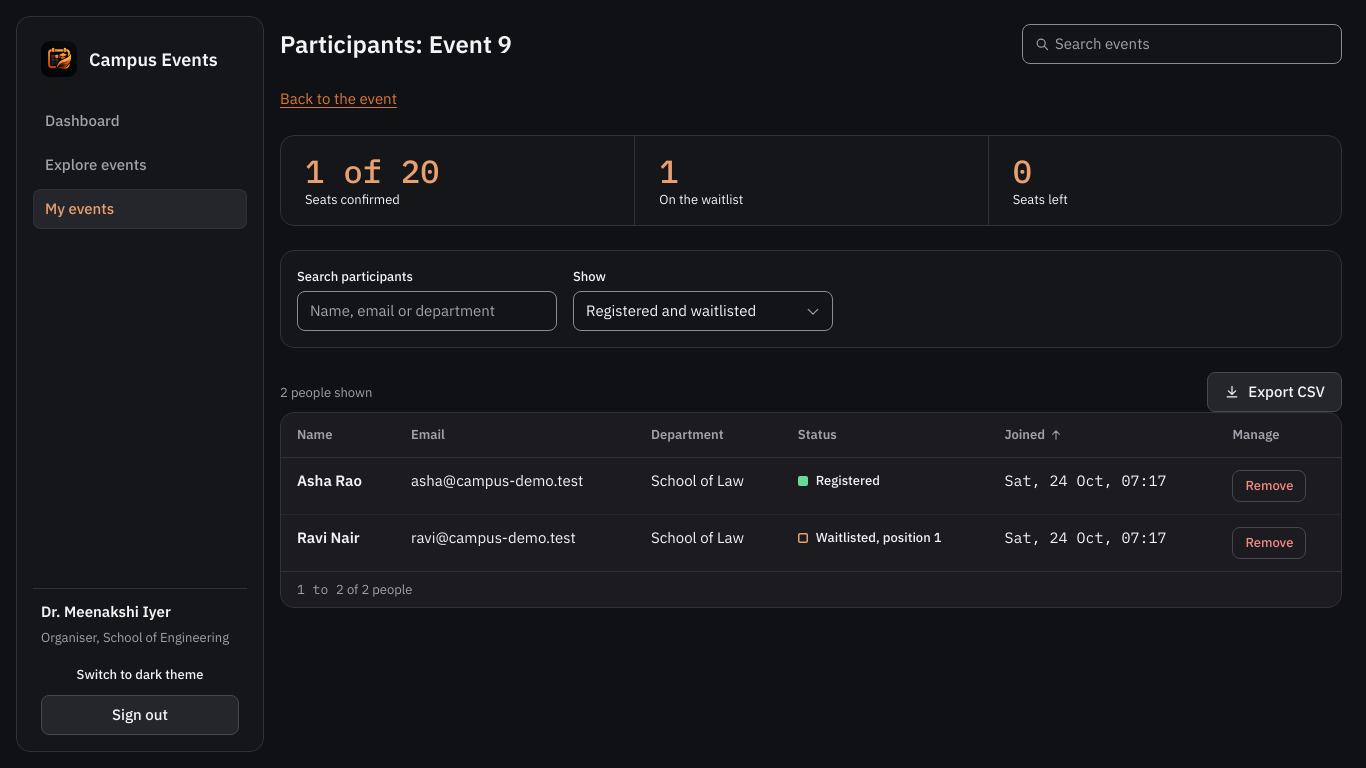
Test: removing a participant › asks first, then removes the person and says so
What coordinates should you click on to do the following:
click the button with aria-label "Remove Asha Rao"
I would click on:
 (1269, 486)
Its box is [1232,470,1306,502].
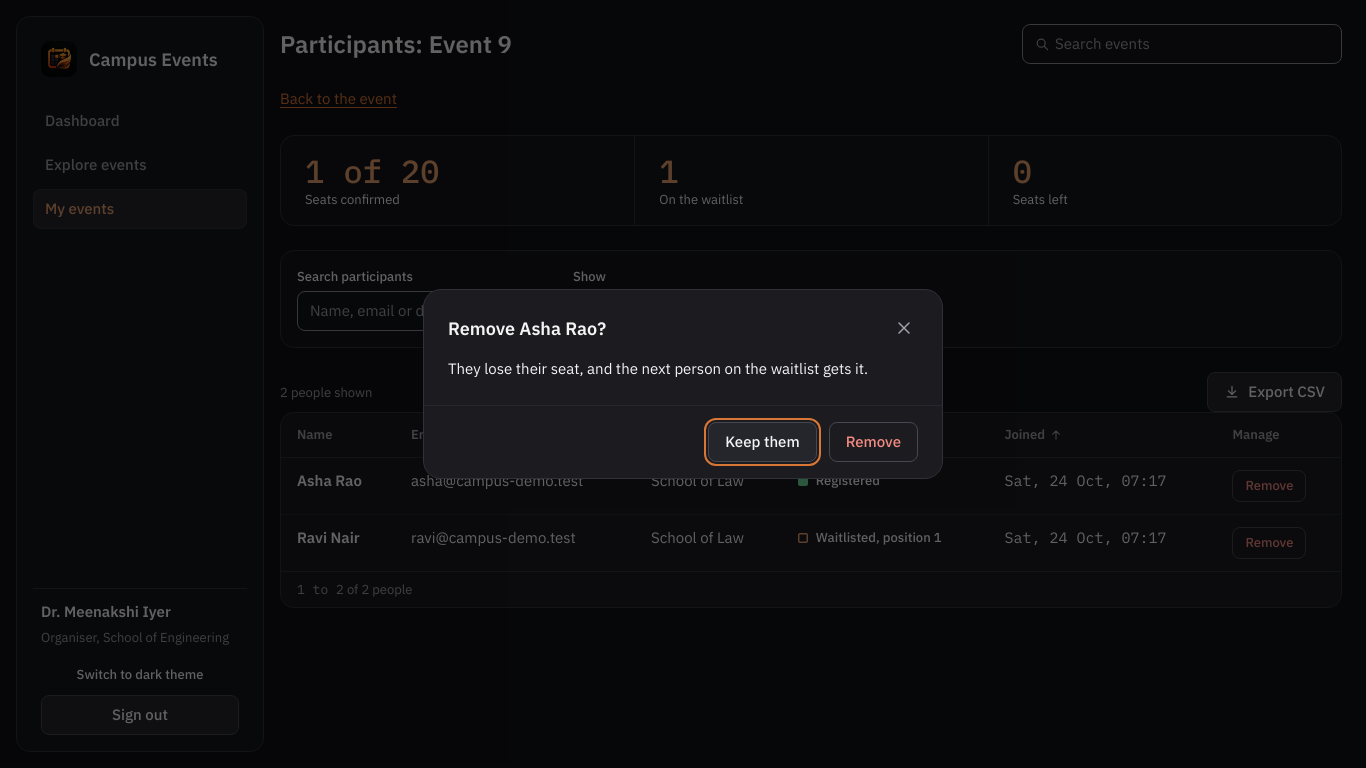
Expected: the text "next person on the waitlist gets it" is shown, [448,359,868,378]
What coordinates should you click on to do the following:
click the button "Remove"
I would click on:
 (873, 442)
Its box is [829,422,918,462].
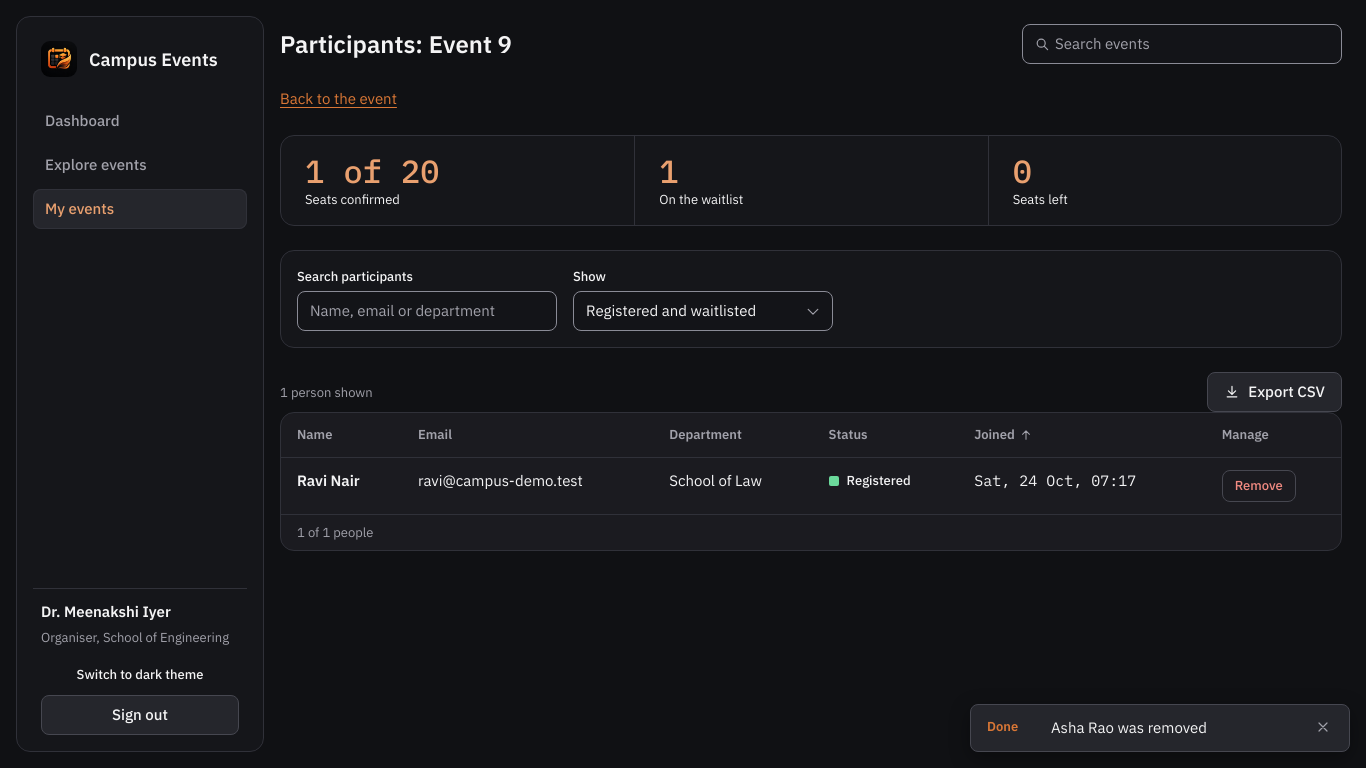
Expected: the cell "Ravi Nair" is shown, [281,458,402,514]
Expected: the text "Asha Rao was removed" is shown, [1051,718,1207,736]
Expected: the dialog is gone
